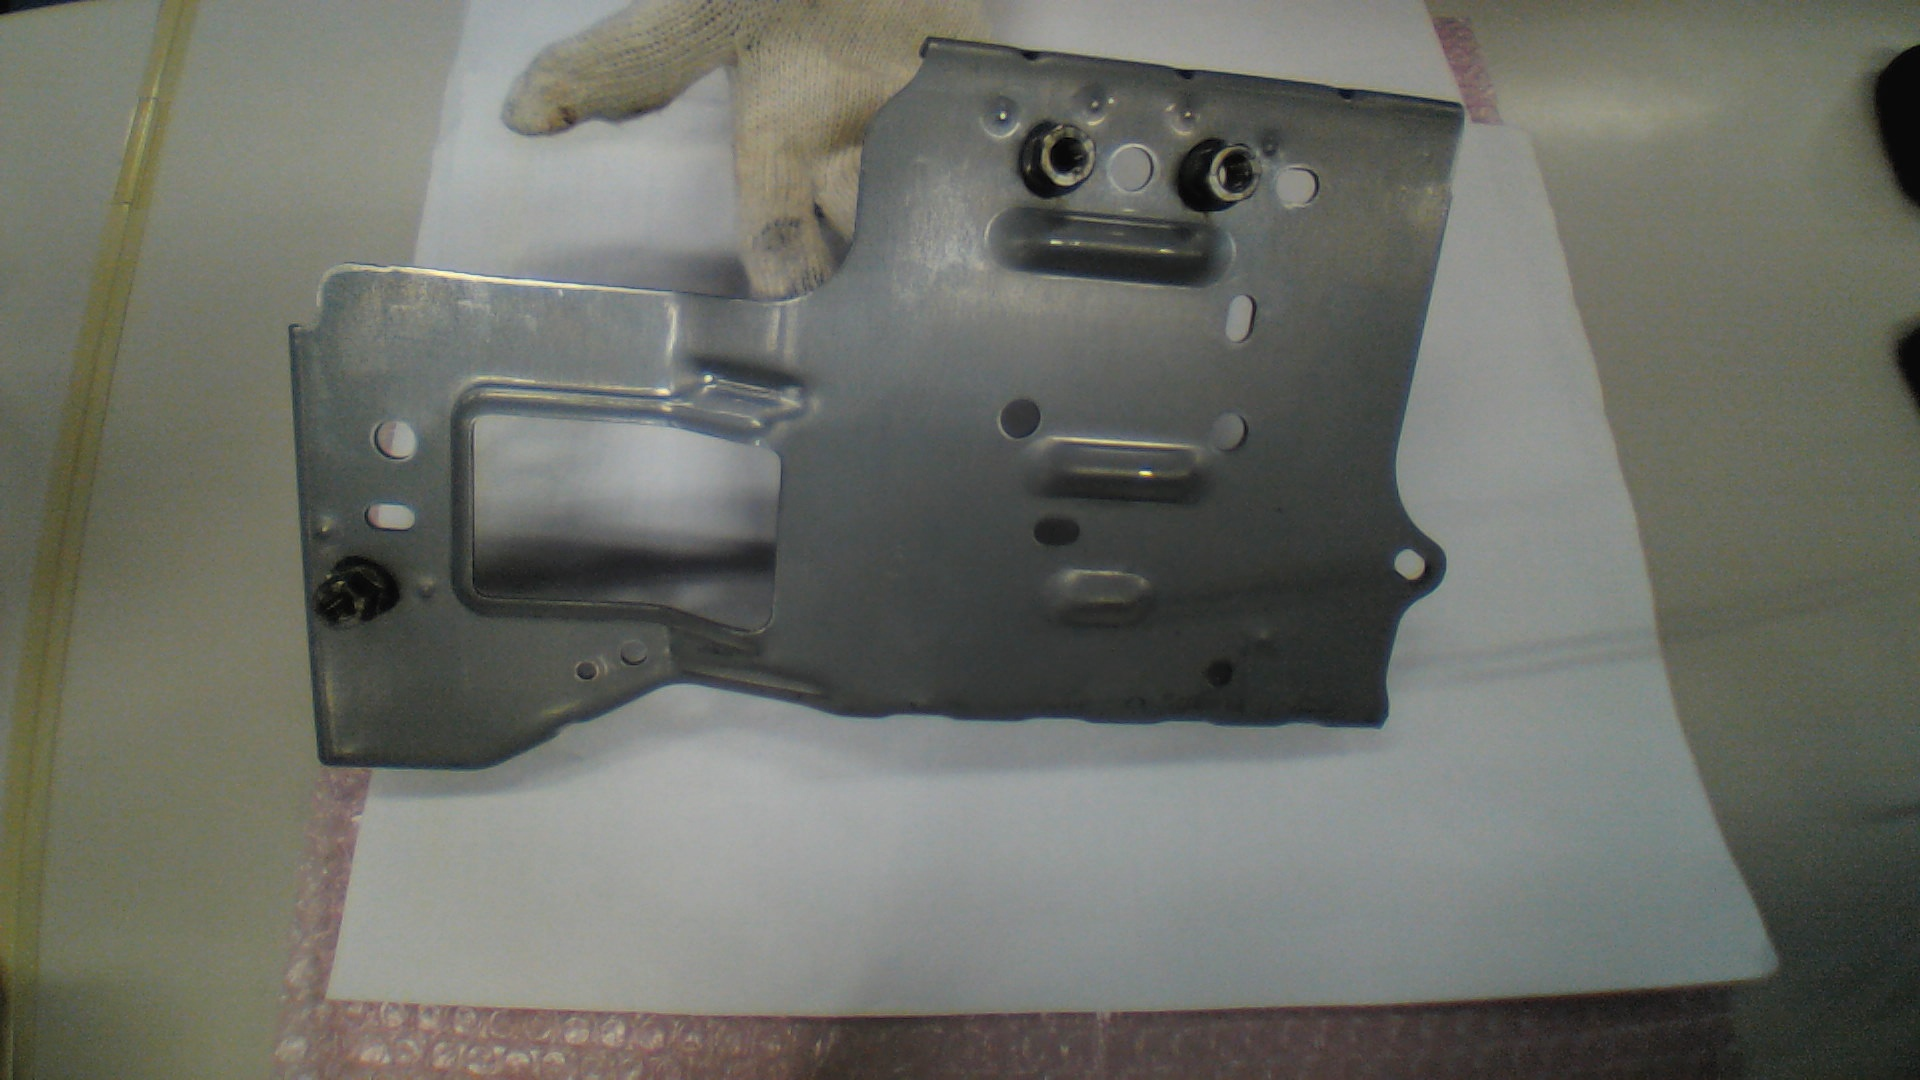dog: (310, 556, 404, 629), (1174, 138, 1262, 214), (1019, 120, 1098, 200)
